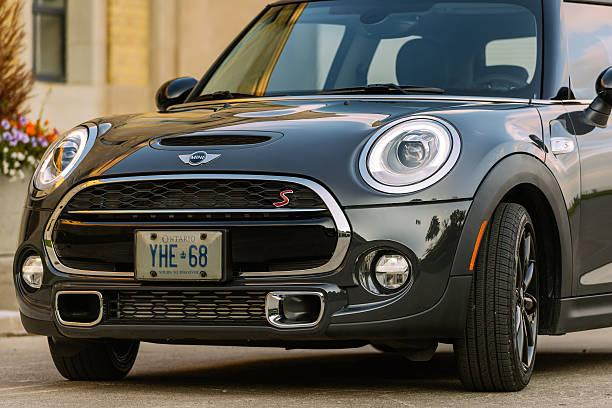licence: (127, 224, 231, 282)
